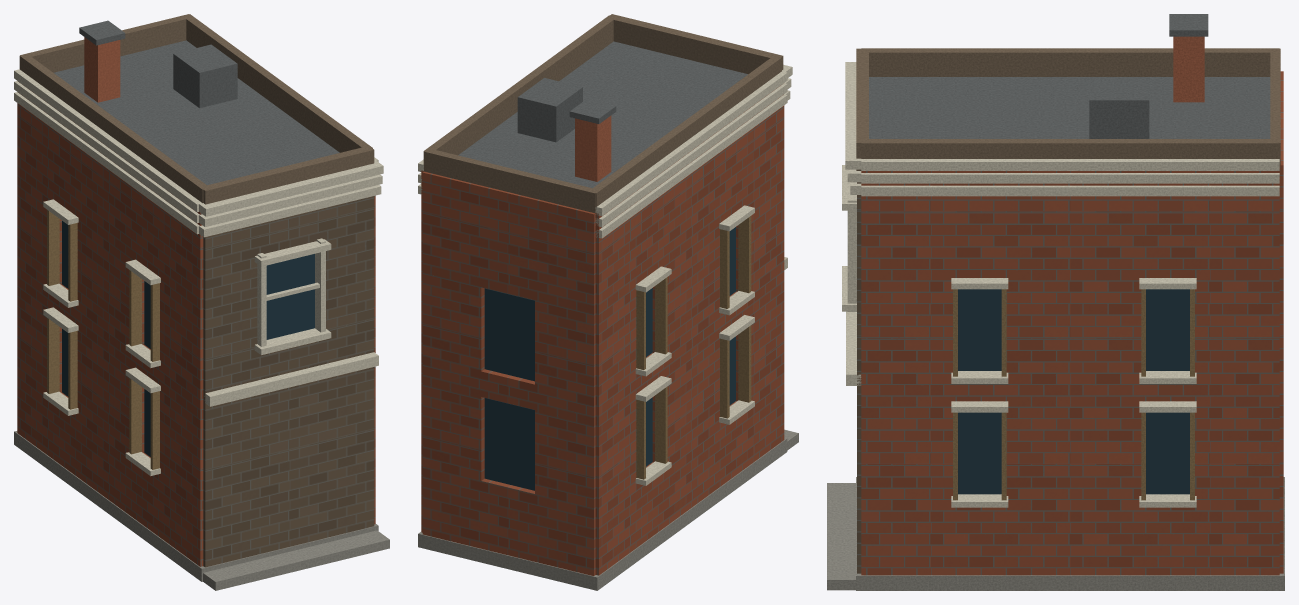
File: WHSE13_lod2.glb
3 renders of one model, left to right at view 1: azimuth 30°, elevation 25°; view 2: azimuth 150°, elevation 25°; view 3: azimuth 270°, elevation 25°, orthographic. The views are drawn at different scales.
Parts seen in each view (by area): view 1: WHSE13_LOD2; view 2: WHSE13_LOD2; view 3: WHSE13_LOD2.
Boxes of the visible parts, x1,y1,x2,y2 form: WHSE13_LOD2: (14,14,389,590); WHSE13_LOD2: (418,14,798,590); WHSE13_LOD2: (827,14,1284,590).
Size of the model in its own units: 3.71 by 7.85 by 6.57.
10 materials, 8 textured.
